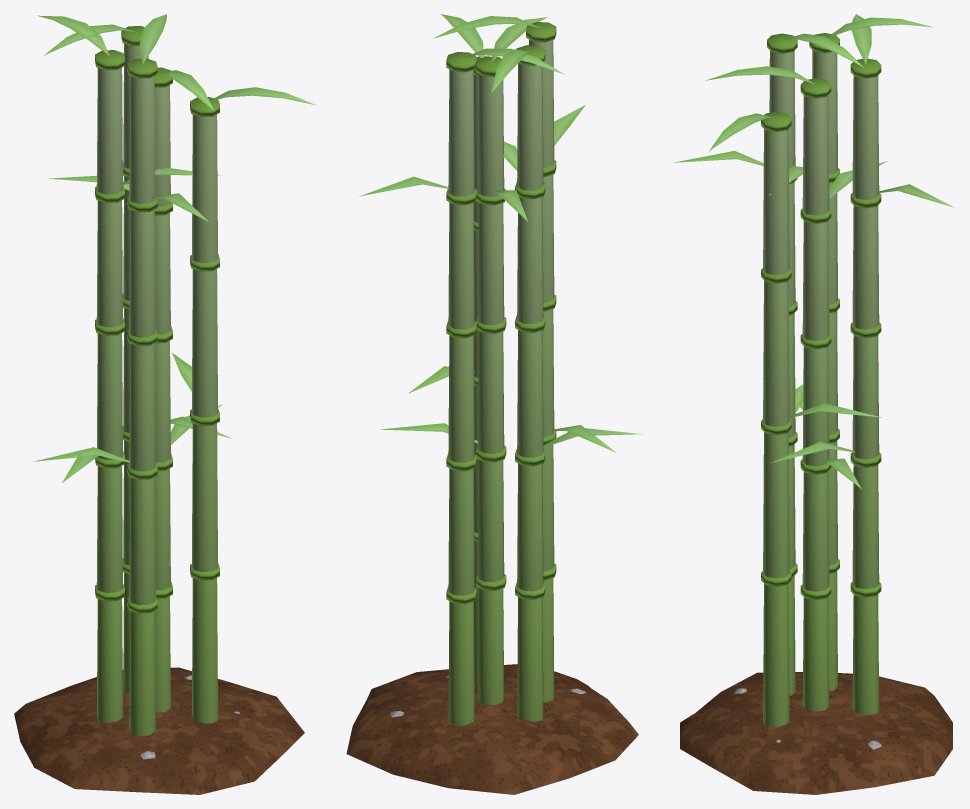
File: plant-bamboo-4.glb
The picture shows the model from 3 angles, left to right: view 1: azimuth 30°, elevation 25°; view 2: azimuth 150°, elevation 25°; view 3: azimuth 270°, elevation 25°; orthographic projection. The views are drawn at different scales.
Visible parts, largest first — view 1: plant-bamboo-4; view 2: plant-bamboo-4; view 3: plant-bamboo-4.
Part boxes in pixels (x1=…): plant-bamboo-4: x1=14, y1=14, x2=316, y2=794; plant-bamboo-4: x1=346, y1=14, x2=642, y2=794; plant-bamboo-4: x1=674, y1=14, x2=954, y2=794.
Size of the model in its own units: 0.8468 by 2.3 by 0.8503.
4 materials, 2 textured.
